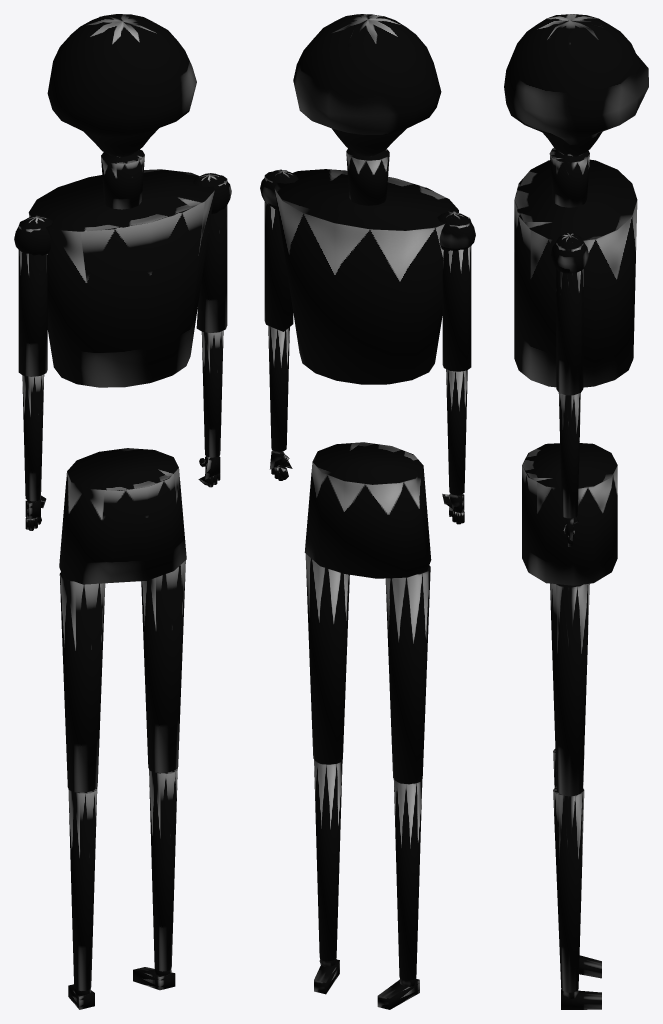
Rendered from zombie_walker_2.glb.
The picture shows the model from 3 angles, left to right: view 1: azimuth 30°, elevation 25°; view 2: azimuth 150°, elevation 25°; view 3: azimuth 270°, elevation 25°; orthographic projection.
Visible parts, largest first — view 1: zombie_walker_2; view 2: zombie_walker_2; view 3: zombie_walker_2.
Boxes of the visible parts, x1,y1,x2,y2 form: zombie_walker_2: (14,14,231,1009); zombie_walker_2: (260,14,475,1009); zombie_walker_2: (504,14,648,1009).
Size of the model in its own units: 0.3869 by 1.71 by 0.231.
1 material, 1 textured.
